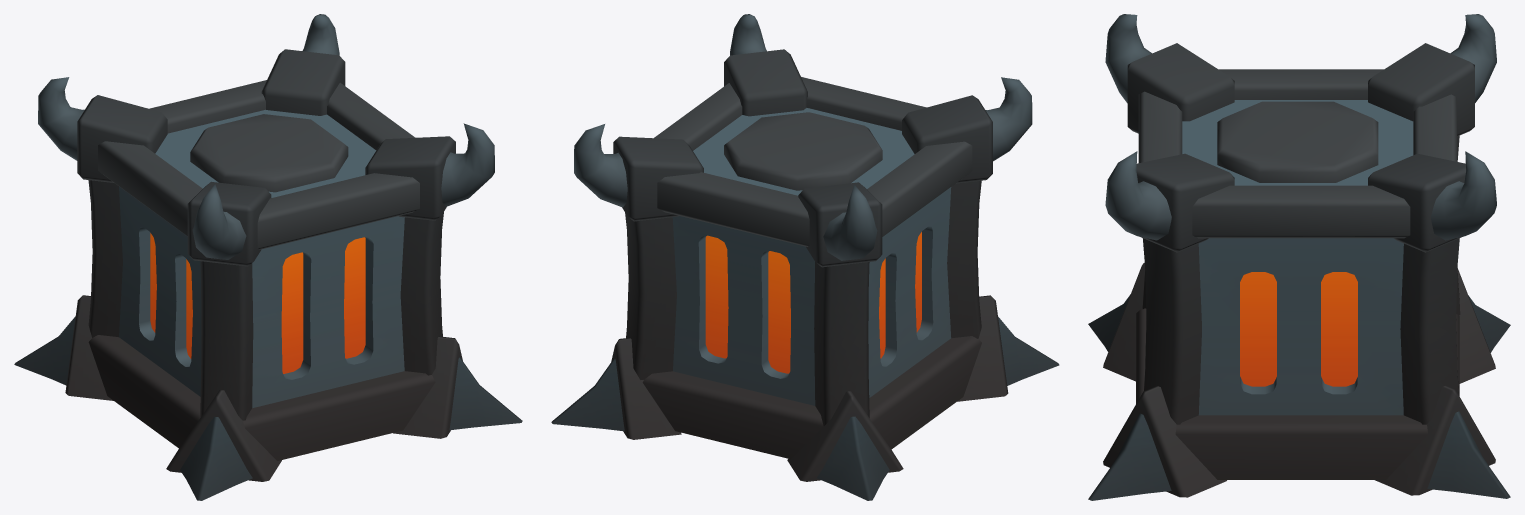
The picture shows the model from 3 angles, left to right: view 1: azimuth 30°, elevation 25°; view 2: azimuth 150°, elevation 25°; view 3: azimuth 270°, elevation 25°; orthographic projection. The views are drawn at different scales.
Visible parts, largest first — view 1: Box_001; view 2: Box_001; view 3: Box_001.
Boxes of the visible parts, bbox=[...] form: Box_001: bbox=[14, 14, 522, 500]; Box_001: bbox=[551, 14, 1059, 500]; Box_001: bbox=[1088, 14, 1510, 500].
Bounding box in the file's own units: 1.58 × 1.37 × 1.58.
2 materials, 2 textured.
